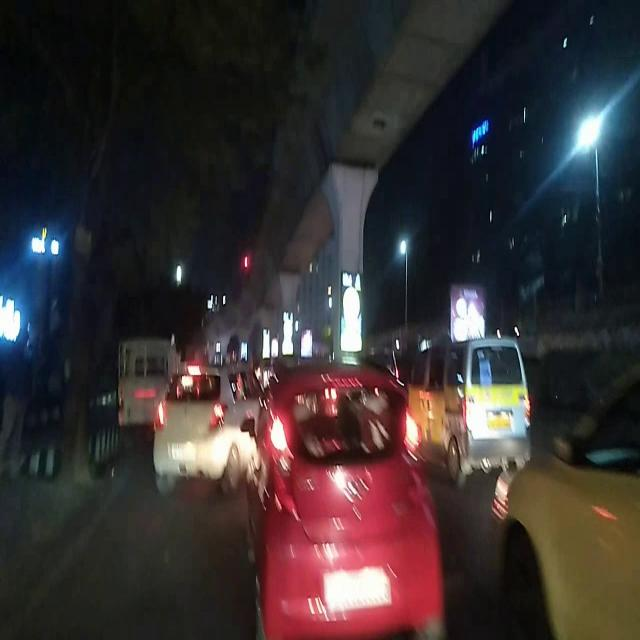car: (250, 370, 448, 640), (405, 342, 534, 481), (153, 362, 262, 495)
road: (1, 481, 504, 640)
sidewalk: (19, 425, 116, 482)
van: (115, 334, 172, 430)
